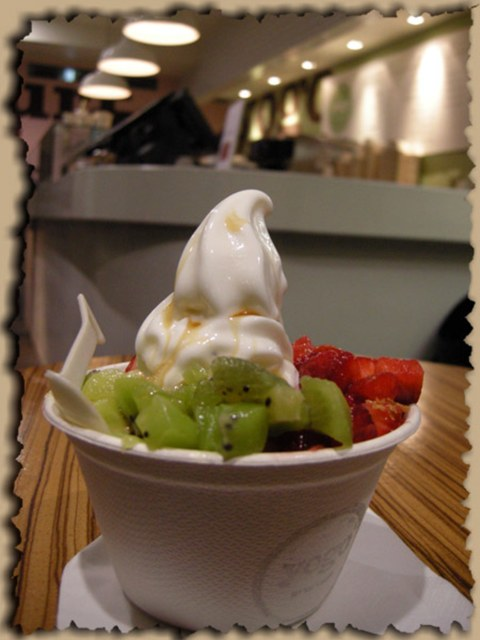bowl: (39, 362, 420, 631)
